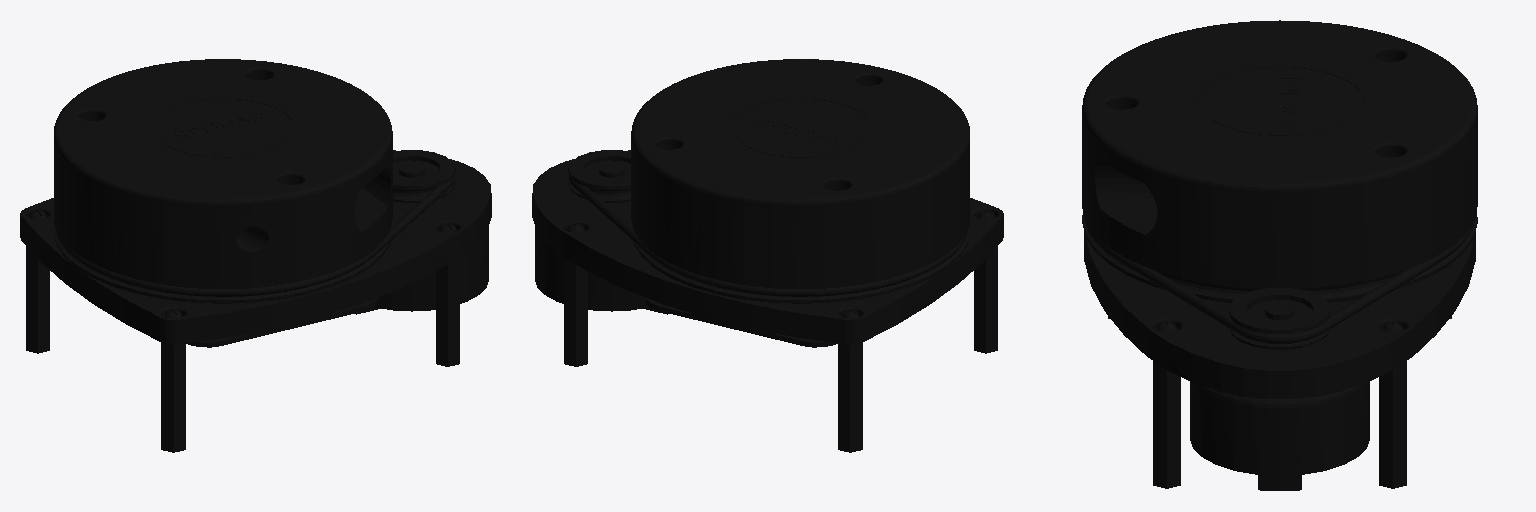
robot.urdf — pal_description_package:
<?xml version="1.0" encoding="utf-8"?>
<!-- This URDF was automatically created by SolidWorks to URDF Exporter! Originally created by [author] ([email redacted]) 
     Commit Version: 1.6.0-4-g7f85cfe  Build Version: 1.6.7995.38578
     For more information, please see http://wiki.ros.org/sw_urdf_exporter -->
<robot
  name="pal_description_package">
  <link
    name="base_link">
    <inertial>
      <origin
        xyz="0.000791 -0.00018243 0.30716"
        rpy="0 0 0" />
      <mass
        value="12.301" />
      <inertia
        ixx="0.2473"
        ixy="-8.7263E-06"
        ixz="-0.0004377"
        iyy="0.27773"
        iyz="3.5306E-07"
        izz="0.42822" />
    </inertial>
    <visual>
      <origin
        xyz="0 0 0"
        rpy="0 0 0" />
      <geometry>
        <mesh
          filename="package://pal_description_package/meshes/base_link.STL" />
      </geometry>
      <material
        name="">
        <color
          rgba="0.75294 0.75294 0.75294 1" />
      </material>
    </visual>
    <collision>
      <origin
        xyz="0 0 0"
        rpy="0 0 0" />
      <geometry>
        <mesh
          filename="package://pal_description_package/meshes/base_link.STL" />
      </geometry>
    </collision>
  </link>
  <link
    name="laser_link">
    <inertial>
      <origin
        xyz="0.0057843 0.00049511 -0.019562"
        rpy="0 0 0" />
      <mass
        value="0.14299" />
      <inertia
        ixx="4.6277E-05"
        ixy="-8.5357E-07"
        ixz="3.6218E-06"
        iyy="7.3475E-05"
        iyz="-2.043E-07"
        izz="0.00010796" />
    </inertial>
    <visual>
      <origin
        xyz="0 0 0"
        rpy="0 0 0" />
      <geometry>
        <mesh
          filename="package://pal_description_package/meshes/laser_link.STL" />
      </geometry>
      <material
        name="">
        <color
          rgba="0.10196 0.10196 0.10196 1" />
      </material>
    </visual>
    <collision>
      <origin
        xyz="0 0 0"
        rpy="0 0 0" />
      <geometry>
        <mesh
          filename="package://pal_description_package/meshes/laser_link.STL" />
      </geometry>
    </collision>
  </link>
  <joint
    name="base_to_laser_link"
    type="fixed">
    <origin
      xyz="-0.2295 0 0.4606"
      rpy="0 0 0" />
    <parent
      link="base_link" />
    <child
      link="laser_link" />
    <axis
      xyz="0 0 0" />
  </joint>
  <link
    name="sonar_back">
    <inertial>
      <origin
        xyz="-0.0093348 -5.1266E-05 0.0024606"
        rpy="0 0 0" />
      <mass
        value="0.0127" />
      <inertia
        ixx="2.9958E-06"
        ixy="-3.2563E-14"
        ixz="6.0937E-07"
        iyy="2.5484E-06"
        iyz="3.54E-14"
        izz="3.6718E-06" />
    </inertial>
    <visual>
      <origin
        xyz="0 0 0"
        rpy="0 0 0" />
      <geometry>
        <mesh
          filename="package://pal_description_package/meshes/sonar_back.STL" />
      </geometry>
      <material
        name="">
        <color
          rgba="0.79216 0.81961 0.93333 1" />
      </material>
    </visual>
    <collision>
      <origin
        xyz="0 0 0"
        rpy="0 0 0" />
      <geometry>
        <mesh
          filename="package://pal_description_package/meshes/sonar_back.STL" />
      </geometry>
    </collision>
  </link>
  <joint
    name="base_to_sonar_back"
    type="fixed">
    <origin
      xyz="-0.28 0 0.3855"
      rpy="0 0 -3.1416" />
    <parent
      link="base_link" />
    <child
      link="sonar_back" />
    <axis
      xyz="0 0 0" />
  </joint>
  <link
    name="sonar_right">
    <inertial>
      <origin
        xyz="-0.00933477415816641 -5.12662968424338E-05 0.00246059497188117"
        rpy="0 0 0" />
      <mass
        value="0.0127001779820879" />
      <inertia
        ixx="2.99583454710812E-06"
        ixy="-3.25634412577514E-14"
        ixz="6.09366105296659E-07"
        iyy="2.54843474812641E-06"
        iyz="3.53999405188081E-14"
        izz="3.67179403191029E-06" />
    </inertial>
    <visual>
      <origin
        xyz="0 0 0"
        rpy="0 0 0" />
      <geometry>
        <mesh
          filename="package://pal_description_package/meshes/sonar_right.STL" />
      </geometry>
      <material
        name="">
        <color
          rgba="0.792156862745098 0.819607843137255 0.933333333333333 1" />
      </material>
    </visual>
    <collision>
      <origin
        xyz="0 0 0"
        rpy="0 0 0" />
      <geometry>
        <mesh
          filename="package://pal_description_package/meshes/sonar_right.STL" />
      </geometry>
    </collision>
  </link>
  <joint
    name="base_to_sonar_right"
    type="fixed">
    <origin
      xyz="-0.20375 -0.25 0.3855"
      rpy="0 0 -1.5708" />
    <parent
      link="base_link" />
    <child
      link="sonar_right" />
    <axis
      xyz="0 0 0" />
  </joint>
  <link
    name="sonar_right_front">
    <inertial>
      <origin
        xyz="-0.00933477420196571 -5.12663004713643E-05 0.00246059506440671"
        rpy="0 0 0" />
      <mass
        value="0.0127001779018216" />
      <inertia
        ixx="2.99583454715613E-06"
        ixy="-3.25666274648268E-14"
        ixz="6.09366105293019E-07"
        iyy="2.54843474806314E-06"
        iyz="3.54128534283303E-14"
        izz="3.67179403199938E-06" />
    </inertial>
    <visual>
      <origin
        xyz="0 0 0"
        rpy="0 0 0" />
      <geometry>
        <mesh
          filename="package://pal_description_package/meshes/sonar_right_front.STL" />
      </geometry>
      <material
        name="">
        <color
          rgba="0.792156862745098 0.819607843137255 0.933333333333333 1" />
      </material>
    </visual>
    <collision>
      <origin
        xyz="0 0 0"
        rpy="0 0 0" />
      <geometry>
        <mesh
          filename="package://pal_description_package/meshes/sonar_right_front.STL" />
      </geometry>
    </collision>
  </link>
  <joint
    name="base_to_sonar_right_front"
    type="fixed">
    <origin
      xyz="0.0033527 -0.23285 0.3855"
      rpy="0 0 -0.7854" />
    <parent
      link="base_link" />
    <child
      link="sonar_right_front" />
    <axis
      xyz="0 0 0" />
  </joint>
  <link
    name="sonar_front">
    <inertial>
      <origin
        xyz="-0.00933477415887563 -0.000993461646065619 0.00246059497383683"
        rpy="0 0 0" />
      <mass
        value="0.0127001779806578" />
      <inertia
        ixx="2.99583454710788E-06"
        ixy="-3.25634031114903E-14"
        ixz="6.09366105296714E-07"
        iyy="2.54843474812621E-06"
        iyz="3.53999544496893E-14"
        izz="3.67179403191023E-06" />
    </inertial>
    <visual>
      <origin
        xyz="0 0 0"
        rpy="0 0 0" />
      <geometry>
        <mesh
          filename="package://pal_description_package/meshes/sonar_front.STL" />
      </geometry>
      <material
        name="">
        <color
          rgba="0.792156862745098 0.819607843137255 0.933333333333333 1" />
      </material>
    </visual>
    <collision>
      <origin
        xyz="0 0 0"
        rpy="0 0 0" />
      <geometry>
        <mesh
          filename="package://pal_description_package/meshes/sonar_front.STL" />
      </geometry>
    </collision>
  </link>
  <joint
    name="base_to_sonar_front"
    type="fixed">
    <origin
      xyz="0.28 0.0009422 0.3855"
      rpy="0 0 0" />
    <parent
      link="base_link" />
    <child
      link="sonar_front" />
    <axis
      xyz="0 0 0" />
  </joint>
  <link
    name="sonar_left_front">
    <inertial>
      <origin
        xyz="-0.00933477420271966 -5.12663011733305E-05 0.00246059506650176"
        rpy="0 0 0" />
      <mass
        value="0.0127001779002961" />
      <inertia
        ixx="2.9958345471559E-06"
        ixy="-3.25666263001565E-14"
        ixz="6.09366105293054E-07"
        iyy="2.5484347480629E-06"
        iyz="3.54128404848535E-14"
        izz="3.67179403199937E-06" />
    </inertial>
    <visual>
      <origin
        xyz="0 0 0"
        rpy="0 0 0" />
      <geometry>
        <mesh
          filename="package://pal_description_package/meshes/sonar_left_front.STL" />
      </geometry>
      <material
        name="">
        <color
          rgba="0.792156862745098 0.819607843137255 0.933333333333333 1" />
      </material>
    </visual>
    <collision>
      <origin
        xyz="0 0 0"
        rpy="0 0 0" />
      <geometry>
        <mesh
          filename="package://pal_description_package/meshes/sonar_left_front.STL" />
      </geometry>
    </collision>
  </link>
  <joint
    name="base_to_sonar_left_front"
    type="fixed">
    <origin
      xyz="0.0033527 0.23285 0.3855"
      rpy="0 0 0.7854" />
    <parent
      link="base_link" />
    <child
      link="sonar_left_front" />
    <axis
      xyz="0 0 0" />
  </joint>
  <link
    name="sonar_left">
    <inertial>
      <origin
        xyz="0 0 0"
        rpy="0 0 0" />
      <mass
        value="0" />
      <inertia
        ixx="0"
        ixy="0"
        ixz="0"
        iyy="0"
        iyz="0"
        izz="0" />
    </inertial>
    <visual>
      <origin
        xyz="0 0 0"
        rpy="0 0 0" />
      <geometry>
        <mesh
          filename="package://pal_description_package/meshes/sonar_left.STL" />
      </geometry>
      <material
        name="">
        <color
          rgba="1 1 1 1" />
      </material>
    </visual>
    <collision>
      <origin
        xyz="0 0 0"
        rpy="0 0 0" />
      <geometry>
        <mesh
          filename="package://pal_description_package/meshes/sonar_left.STL" />
      </geometry>
    </collision>
  </link>
  <joint
    name="base_to_sonar_left"
    type="fixed">
    <origin
      xyz="-0.204182430887503 0.25 0.3855"
      rpy="0 0 1.5707963267949" />
    <parent
      link="base_link" />
    <child
      link="sonar_left" />
    <axis
      xyz="0 0 0" />
  </joint>
</robot>

--- Facts derived from the render (not from the file) ---
3 views of the same robot in one strip: view 1: azimuth 30°, elevation 25°; view 2: azimuth 150°, elevation 25°; view 3: azimuth 270°, elevation 25° (orthographic).
Model pal_description_package with 8 links and 7 joints (7 fixed), rooted at base_link, posed every joint at zero.
Visible links, largest first — view 1: laser_link; view 2: laser_link; view 3: laser_link.
Boxes of the visible links, bbox=[...] form: laser_link: bbox=[20, 59, 491, 452]; laser_link: bbox=[532, 59, 1003, 452]; laser_link: bbox=[1082, 20, 1477, 490].
Bounding box of the posed robot: 0.096 × 0.07 × 0.0546 m (x, y, z).
1 mesh visuals loaded from 8 distinct referenced files (1 binary STL); not drawn: 7 (reference not matched to a file when rendering).